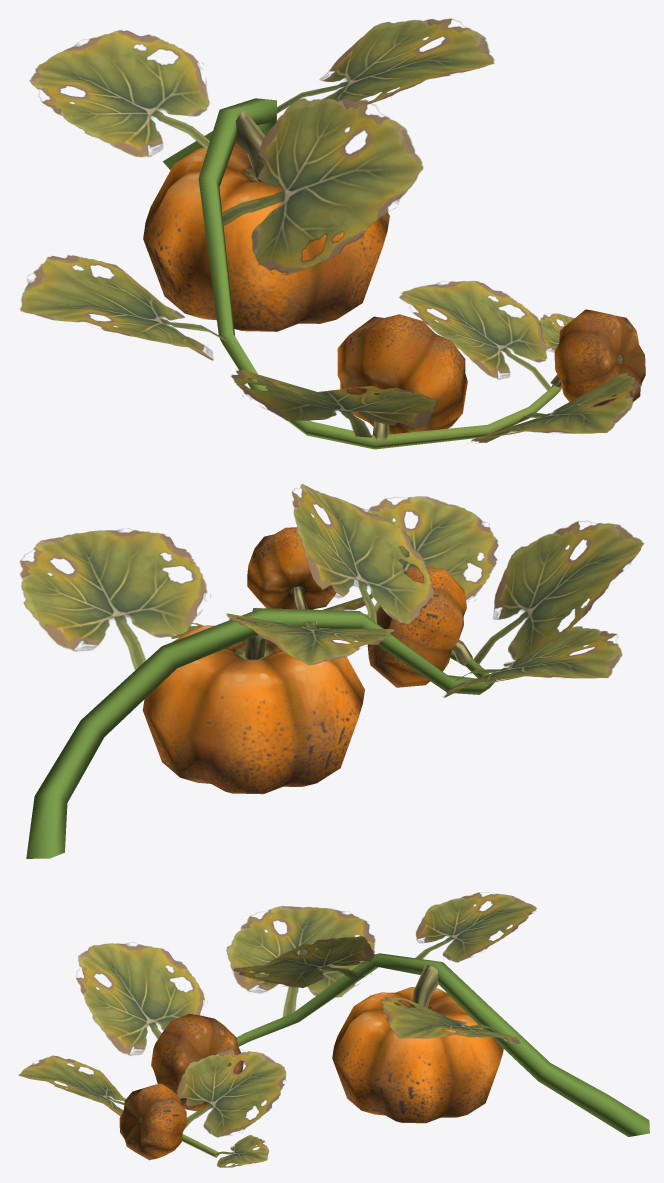
The model's file is plant_pumpkin_S4.gltf.
3 renders of one model, top to bottom at view 1: azimuth 30°, elevation 25°; view 2: azimuth 150°, elevation 25°; view 3: azimuth 270°, elevation 25°, orthographic. The views are drawn at different scales.
Parts seen in each view (by area): view 1: plant_pumpkin_S4, plant_pumpkin_S4_crop; view 2: plant_pumpkin_S4, plant_pumpkin_S4_crop; view 3: plant_pumpkin_S4, plant_pumpkin_S4_crop.
Part boxes in pixels (box(x1,y1,x2,y2)): plant_pumpkin_S4: box(20, 18, 641, 449); plant_pumpkin_S4_crop: box(143, 108, 645, 441); plant_pumpkin_S4: box(20, 484, 643, 858); plant_pumpkin_S4_crop: box(142, 527, 472, 794); plant_pumpkin_S4: box(18, 892, 649, 1167); plant_pumpkin_S4_crop: box(119, 964, 503, 1160).
Bounding box in the file's own units: 0.8528 × 0.3885 × 1.2.
1 material, 1 textured.
